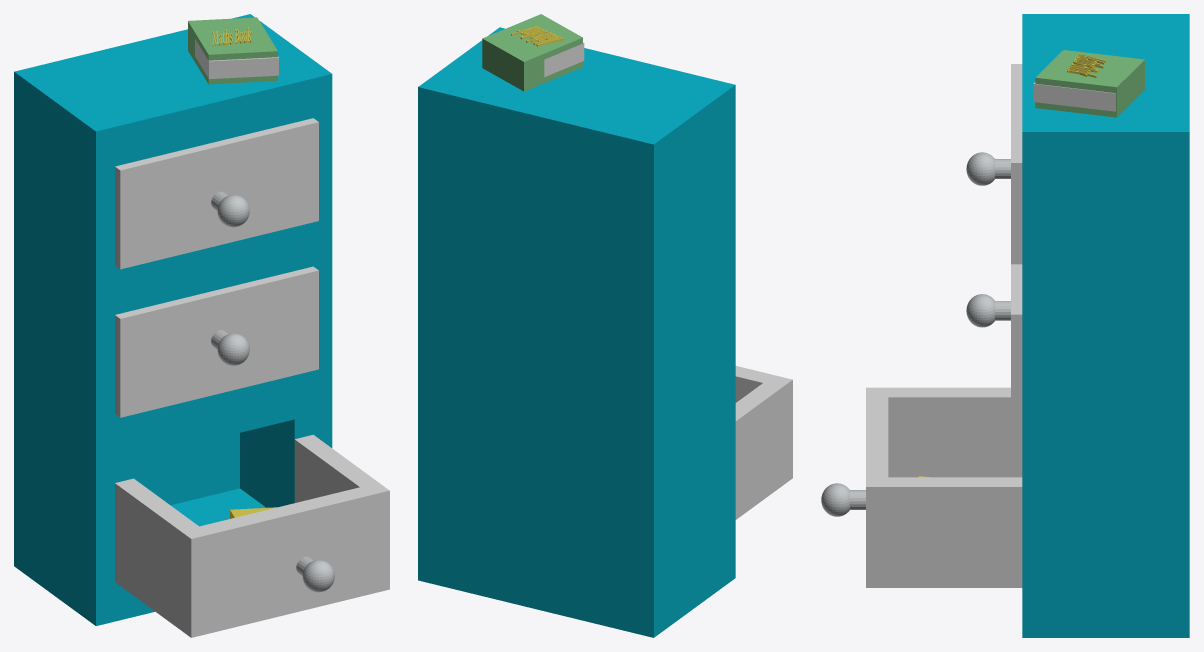
File: Book Shelf.glb
3 renders of one model, left to right at view 1: azimuth 30°, elevation 25°; view 2: azimuth 150°, elevation 25°; view 3: azimuth 270°, elevation 25°, orthographic. The views are drawn at different scales.
Visible parts, largest first — view 1: Mesh_Mesh_head_geo.001_lambert2SG.001; view 2: Mesh_Mesh_head_geo.001_lambert2SG.001; view 3: Mesh_Mesh_head_geo.001_lambert2SG.001.
Part boxes in pixels (x1,y1,x2,y2): Mesh_Mesh_head_geo.001_lambert2SG.001: [14, 14, 389, 637]; Mesh_Mesh_head_geo.001_lambert2SG.001: [418, 14, 792, 637]; Mesh_Mesh_head_geo.001_lambert2SG.001: [821, 14, 1189, 637].
Bounding box in the file's own units: 25 × 53.2 × 33.
